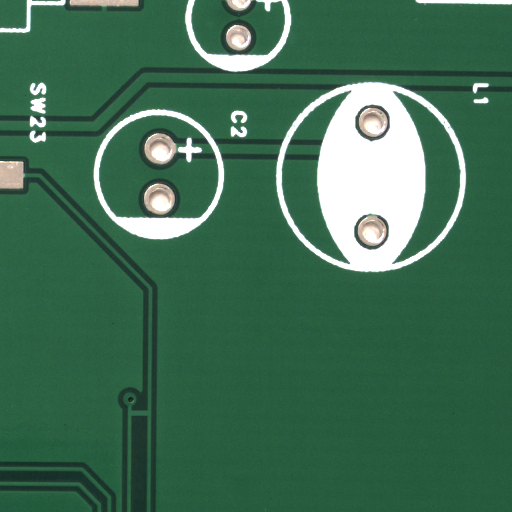Short: (139, 413, 160, 424)
